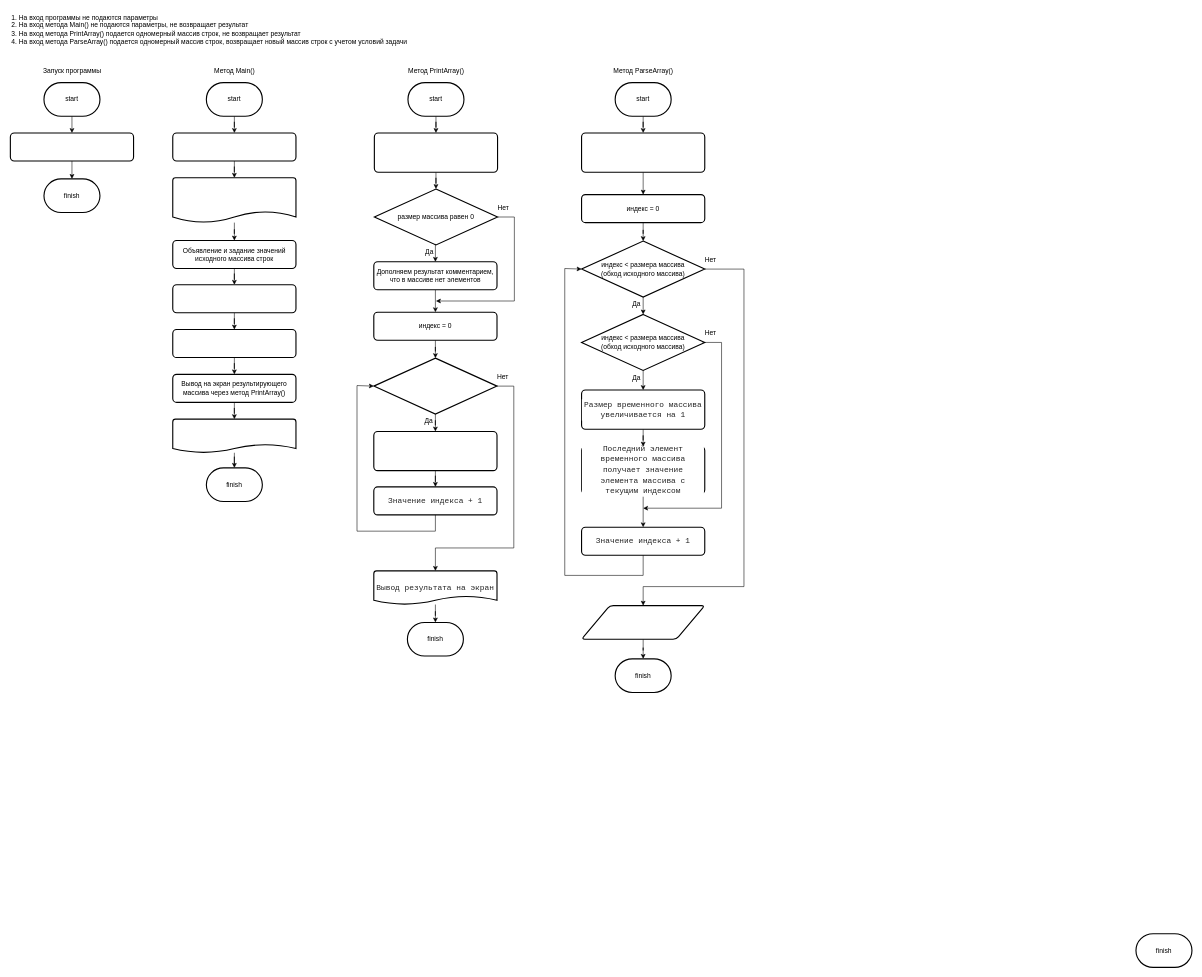
The diagram is 1202 pixels wide and 977 high, and some of its shapes have lost their labels. Each missing label, with the centre of its shape:
Main(): (72,146)
Возвращаем временный массив как результат: (643,622)
Вывод на экран исходного массива через метод PrintArray(): (234,298)
Вывод условий задачи и отступ строки в консоли: (234,200)
индекс < размера массива: (435,385)
Объявление результирующего массива через метод ParseArray(): (234,343)
Объявляется временная переменная с учетом значения переменной message: (436,152)
Объявляется временный одномерный массив строк с "нулевой" длиной: (643,152)
Отступ строки в консоли: (234,435)
Очистка экрана: (234,146)
Результат дополняется значением элемента с текущим индексом: (435,451)
